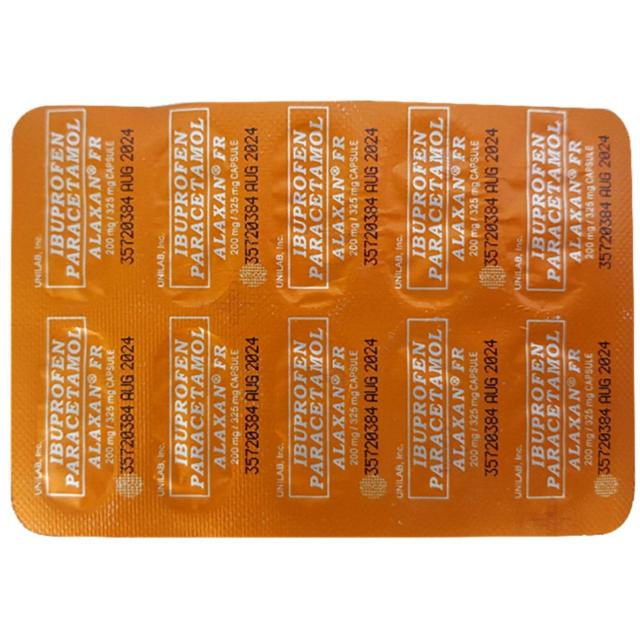blister: (4, 102, 636, 538)
